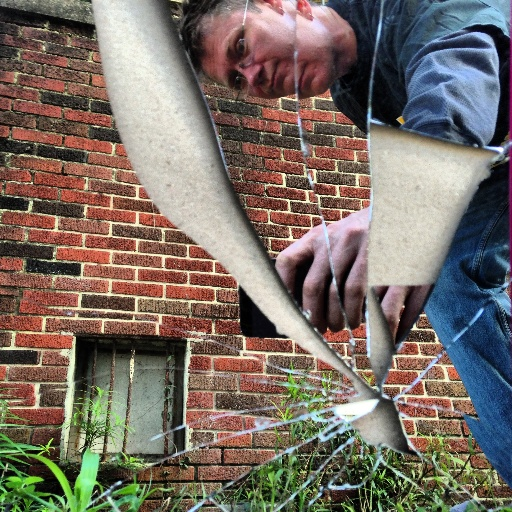hand: (276, 216, 387, 332)
